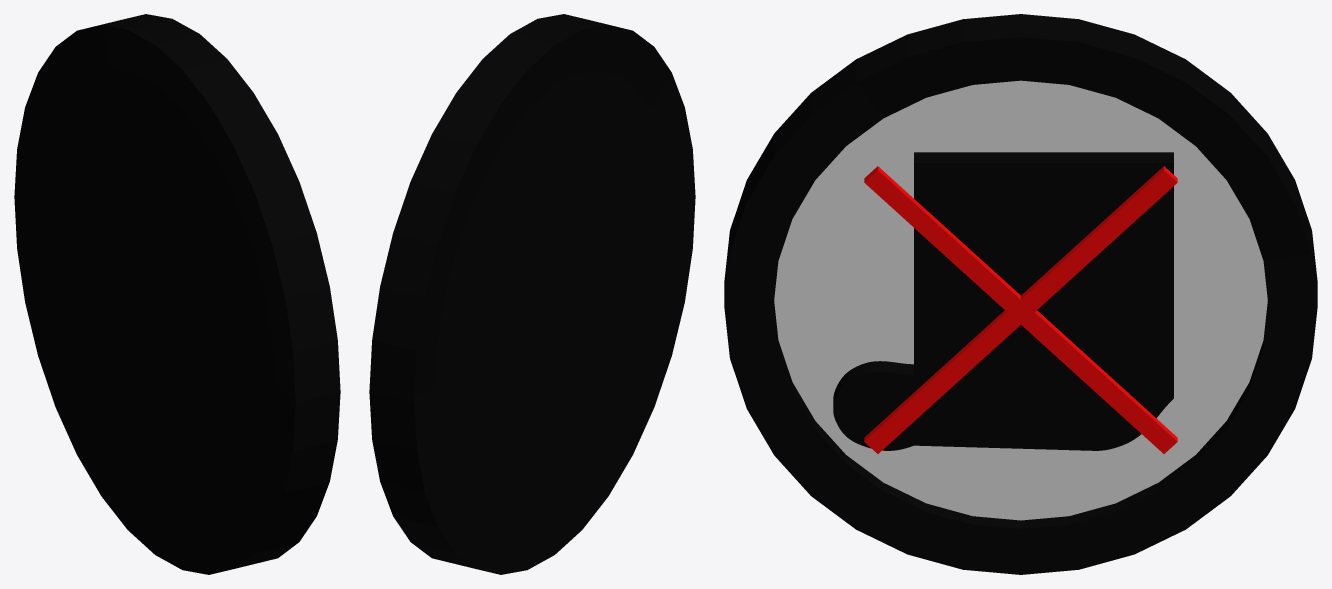
File: VolumeOFF.fbx
The picture shows the model from 3 angles, left to right: view 1: azimuth 30°, elevation 25°; view 2: azimuth 150°, elevation 25°; view 3: azimuth 270°, elevation 25°; orthographic projection. The views are drawn at different scales.
Visible parts, largest first — view 1: Cylinder; view 2: Cylinder; view 3: Cylinder, BézierCurve, BézierCurve.001.
Part boxes in pixels (x1,y1,x2,y2): Cylinder: (14, 14, 340, 574); Cylinder: (369, 14, 695, 574); Cylinder: (724, 14, 1317, 574); BézierCurve: (833, 152, 1173, 450); BézierCurve.001: (864, 166, 1177, 453).
Size of the model in its own units: 24.03 by 206 by 206.
